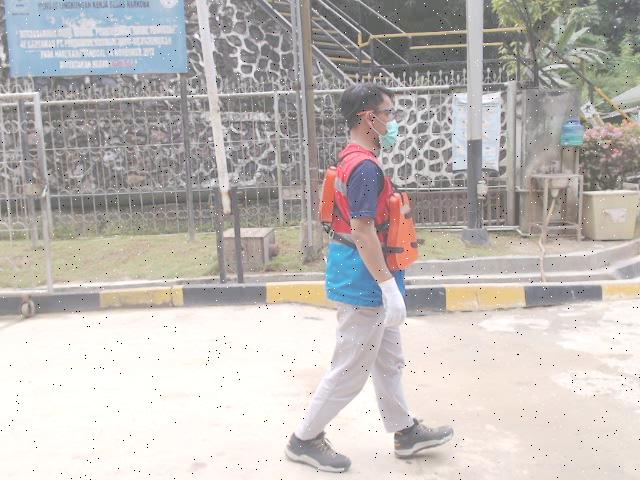glasses: (368, 107, 397, 120)
gloves: (379, 276, 407, 330)
mask: (377, 120, 399, 151)
safety-shoes: (284, 427, 354, 475), (389, 416, 455, 457)
vest: (317, 164, 419, 273)
